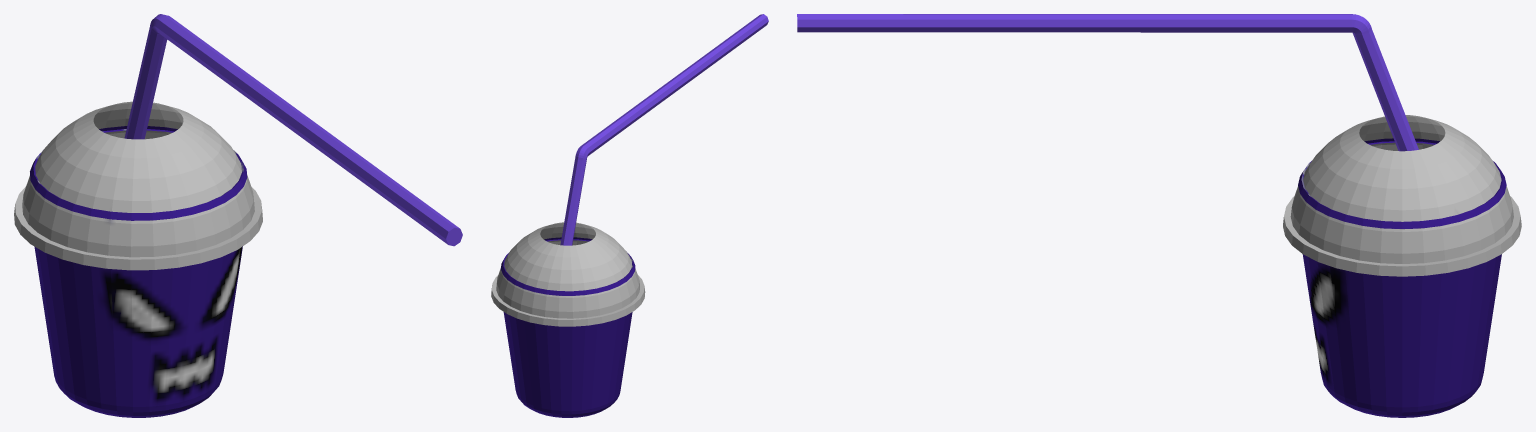
The model's file is SNIPER_F.fbx.
3 renders of one model, left to right at view 1: azimuth 30°, elevation 25°; view 2: azimuth 150°, elevation 25°; view 3: azimuth 270°, elevation 25°, orthographic. The views are drawn at different scales.
Visible parts, largest first — view 1: Drink.001; view 2: Drink.001; view 3: Drink.001.
Boxes of the visible parts, x1,y1,x2,y2 form: Drink.001: (14,14,462,417); Drink.001: (491,14,768,417); Drink.001: (797,14,1521,417).
Size of the model in its own units: 1849 by 3203 by 5606.
Materials: 1 (1 with a texture image).
